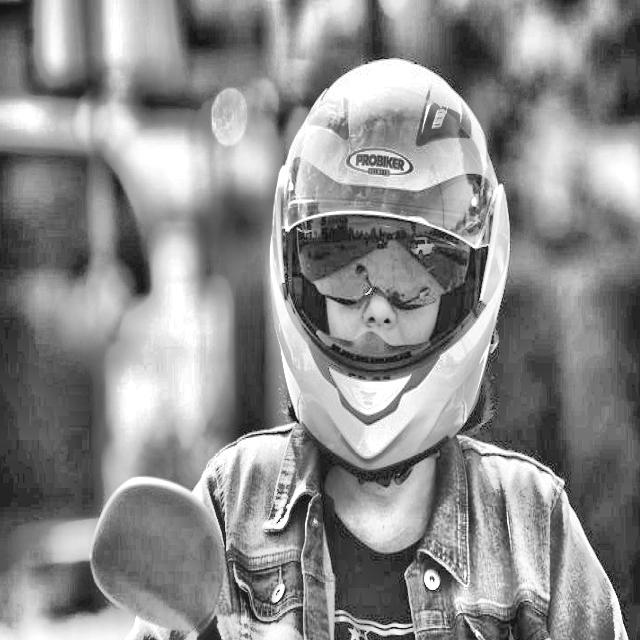Helmet: (248, 42, 516, 528)
